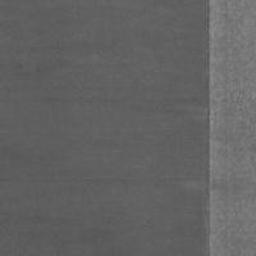Welding line: (202, 0, 212, 256)
